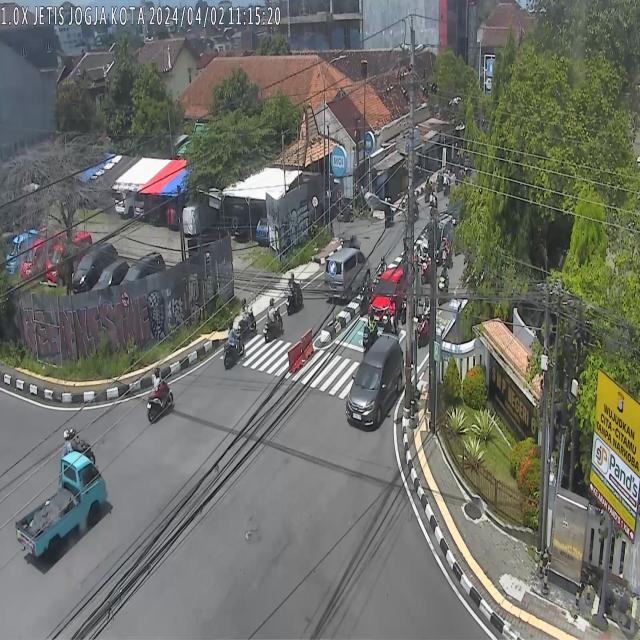car: (346, 333, 404, 430), (325, 247, 370, 302), (368, 266, 407, 326)
motorcycle: (146, 366, 173, 421), (63, 427, 95, 465), (223, 320, 245, 370), (263, 298, 282, 343), (238, 296, 257, 337), (285, 273, 303, 316), (361, 309, 378, 354), (382, 295, 398, 338), (418, 298, 430, 347), (359, 276, 372, 315), (438, 261, 449, 307), (442, 235, 454, 268), (420, 250, 431, 283), (384, 197, 394, 228)
truck: (15, 451, 109, 562)
